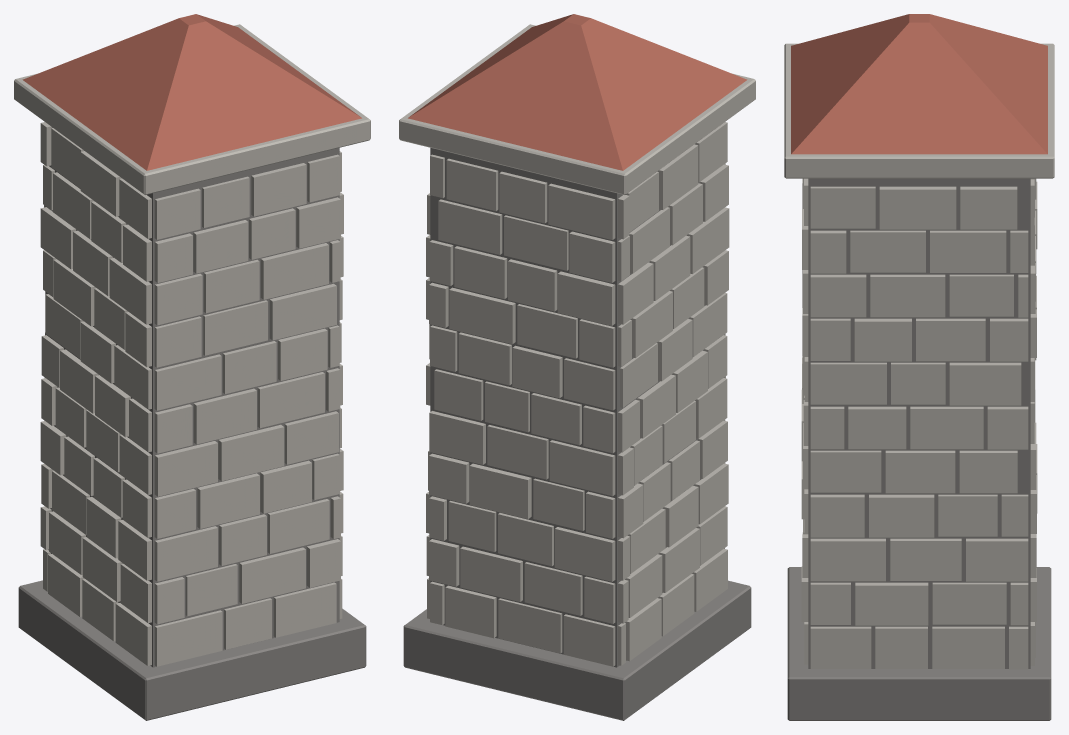
File: Kit_Pilier.fbx
3 views of the same model, side by side, from view 1: azimuth 30°, elevation 25°; view 2: azimuth 150°, elevation 25°; view 3: azimuth 270°, elevation 25° (orthographic). The views are drawn at different scales.
Visible parts, largest first — view 1: Kit_Pilier_Pierre, Kit_Pilier_Toit, Kit_Pilier_PierreSombre; view 2: Kit_Pilier_Pierre, Kit_Pilier_Toit, Kit_Pilier_PierreSombre; view 3: Kit_Pilier_Pierre, Kit_Pilier_PierreSombre, Kit_Pilier_Toit.
Boxes of the visible parts, x1,y1,x2,y2 form: Kit_Pilier_Pierre: [14, 24, 370, 666]; Kit_Pilier_Toit: [22, 14, 361, 170]; Kit_Pilier_PierreSombre: [18, 127, 366, 720]; Kit_Pilier_Pierre: [399, 24, 755, 666]; Kit_Pilier_Toit: [408, 14, 747, 170]; Kit_Pilier_PierreSombre: [403, 148, 751, 720]; Kit_Pilier_Pierre: [784, 43, 1054, 669]; Kit_Pilier_PierreSombre: [787, 178, 1051, 720]; Kit_Pilier_Toit: [791, 14, 1047, 154].
Size of the model in its own units: 780 by 2060 by 780.
